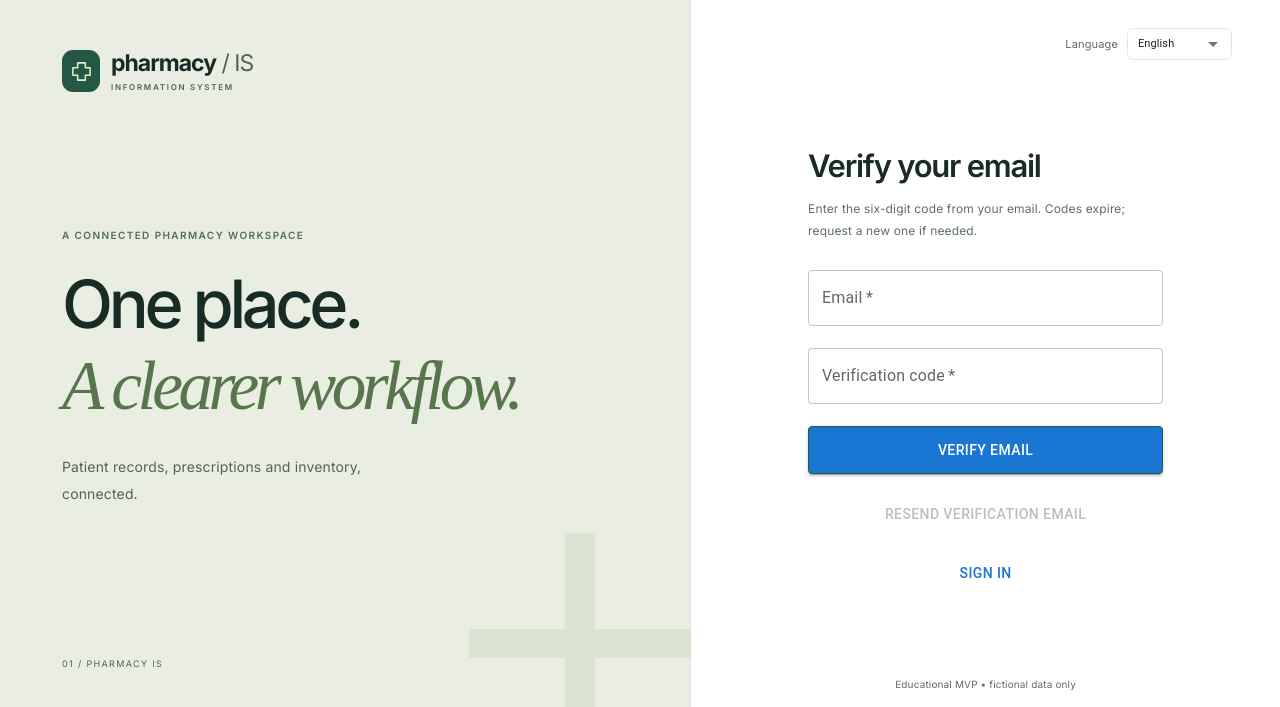
Test: verification consumes the entered OTP and returns to sign-in
The width and height of the screenshot is (1280, 707).
Type "person@example.test" into the field labelled "Email *" at (986, 298), box x1=808 y1=270 x2=1163 y2=326
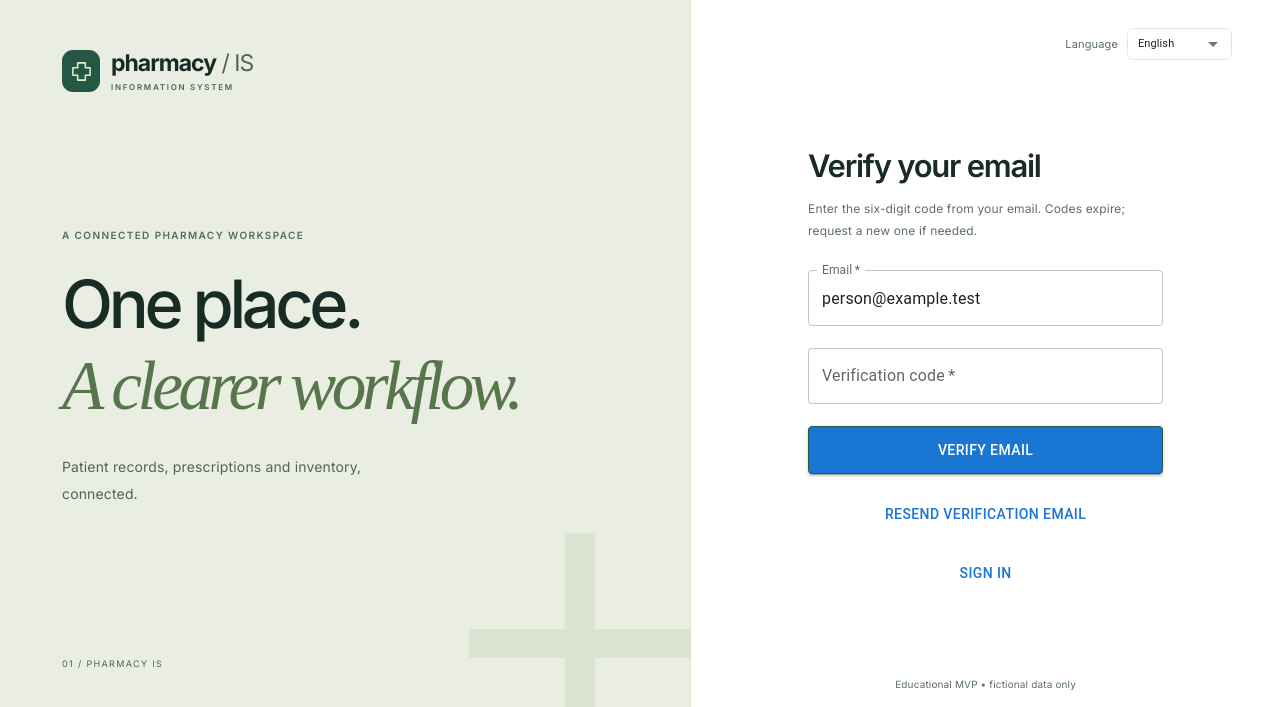
Type "123456" into the field labelled "Verification code *" at (986, 376), box x1=808 y1=348 x2=1163 y2=404
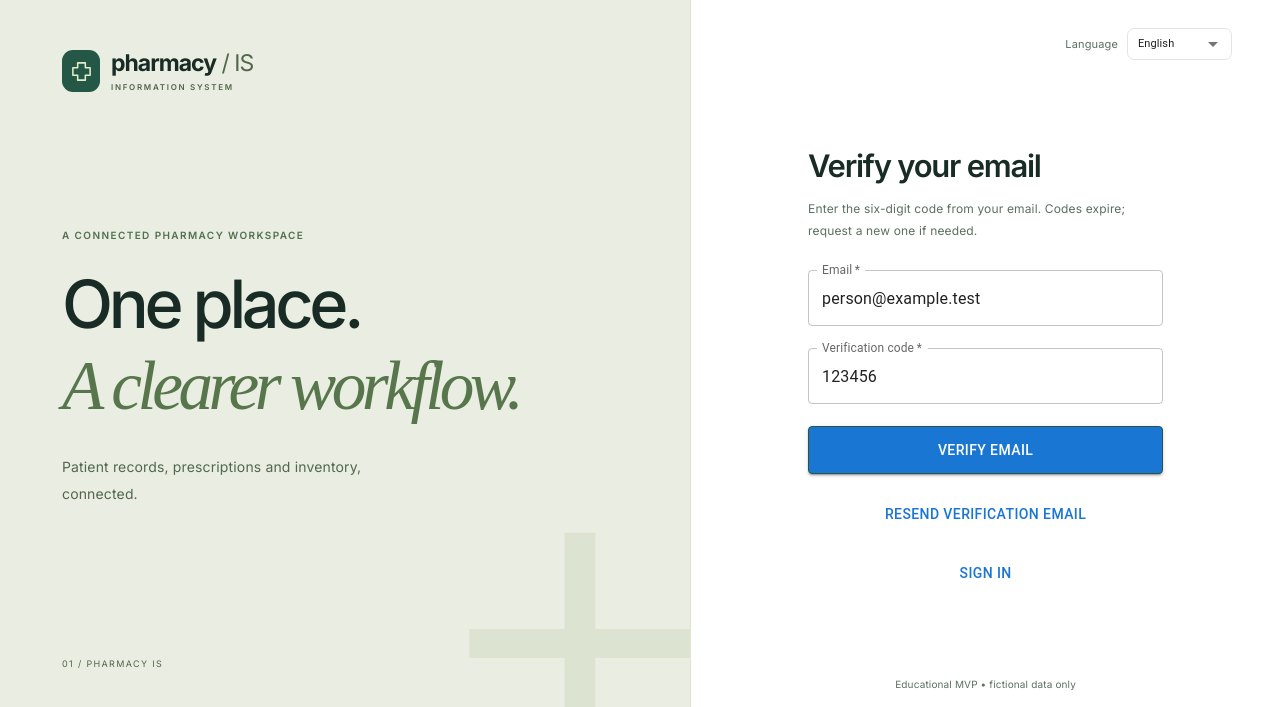
Submit the form named "Verify email", box x1=808 y1=85 x2=1163 y2=651
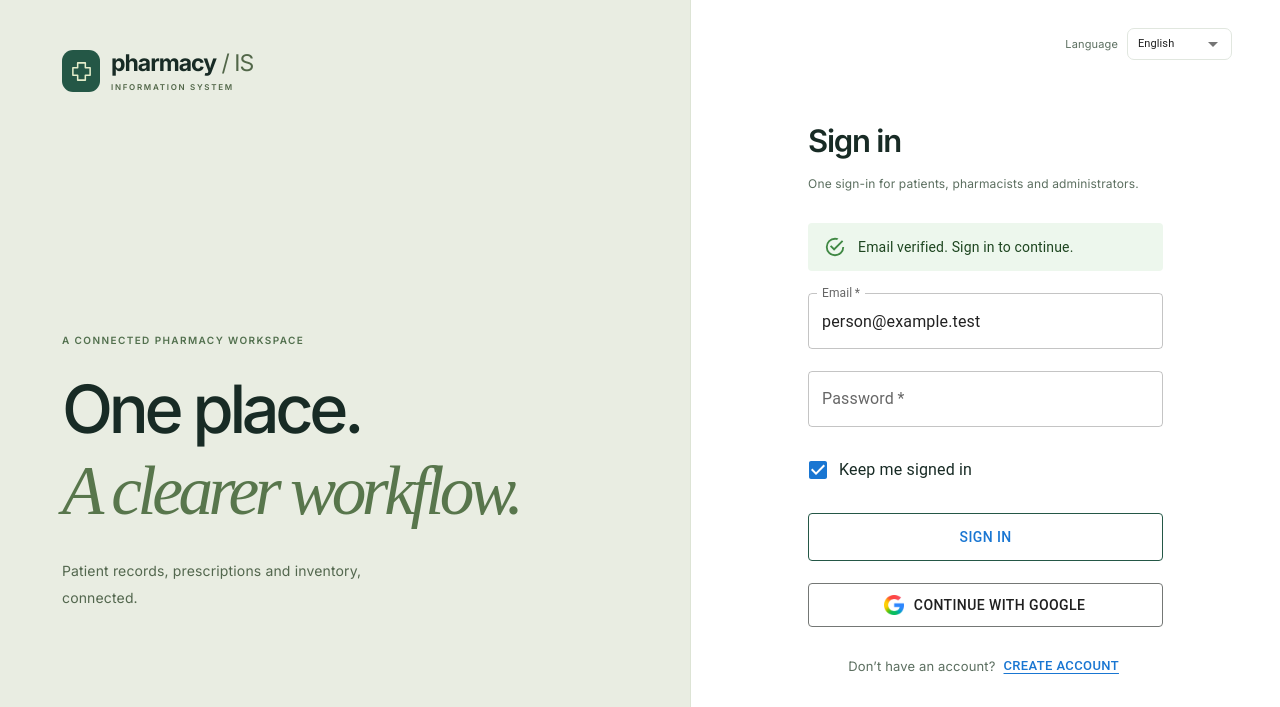
Now the text "Email verified. Sign in to continue." is shown, box x1=858 y1=239 x2=1074 y2=255
